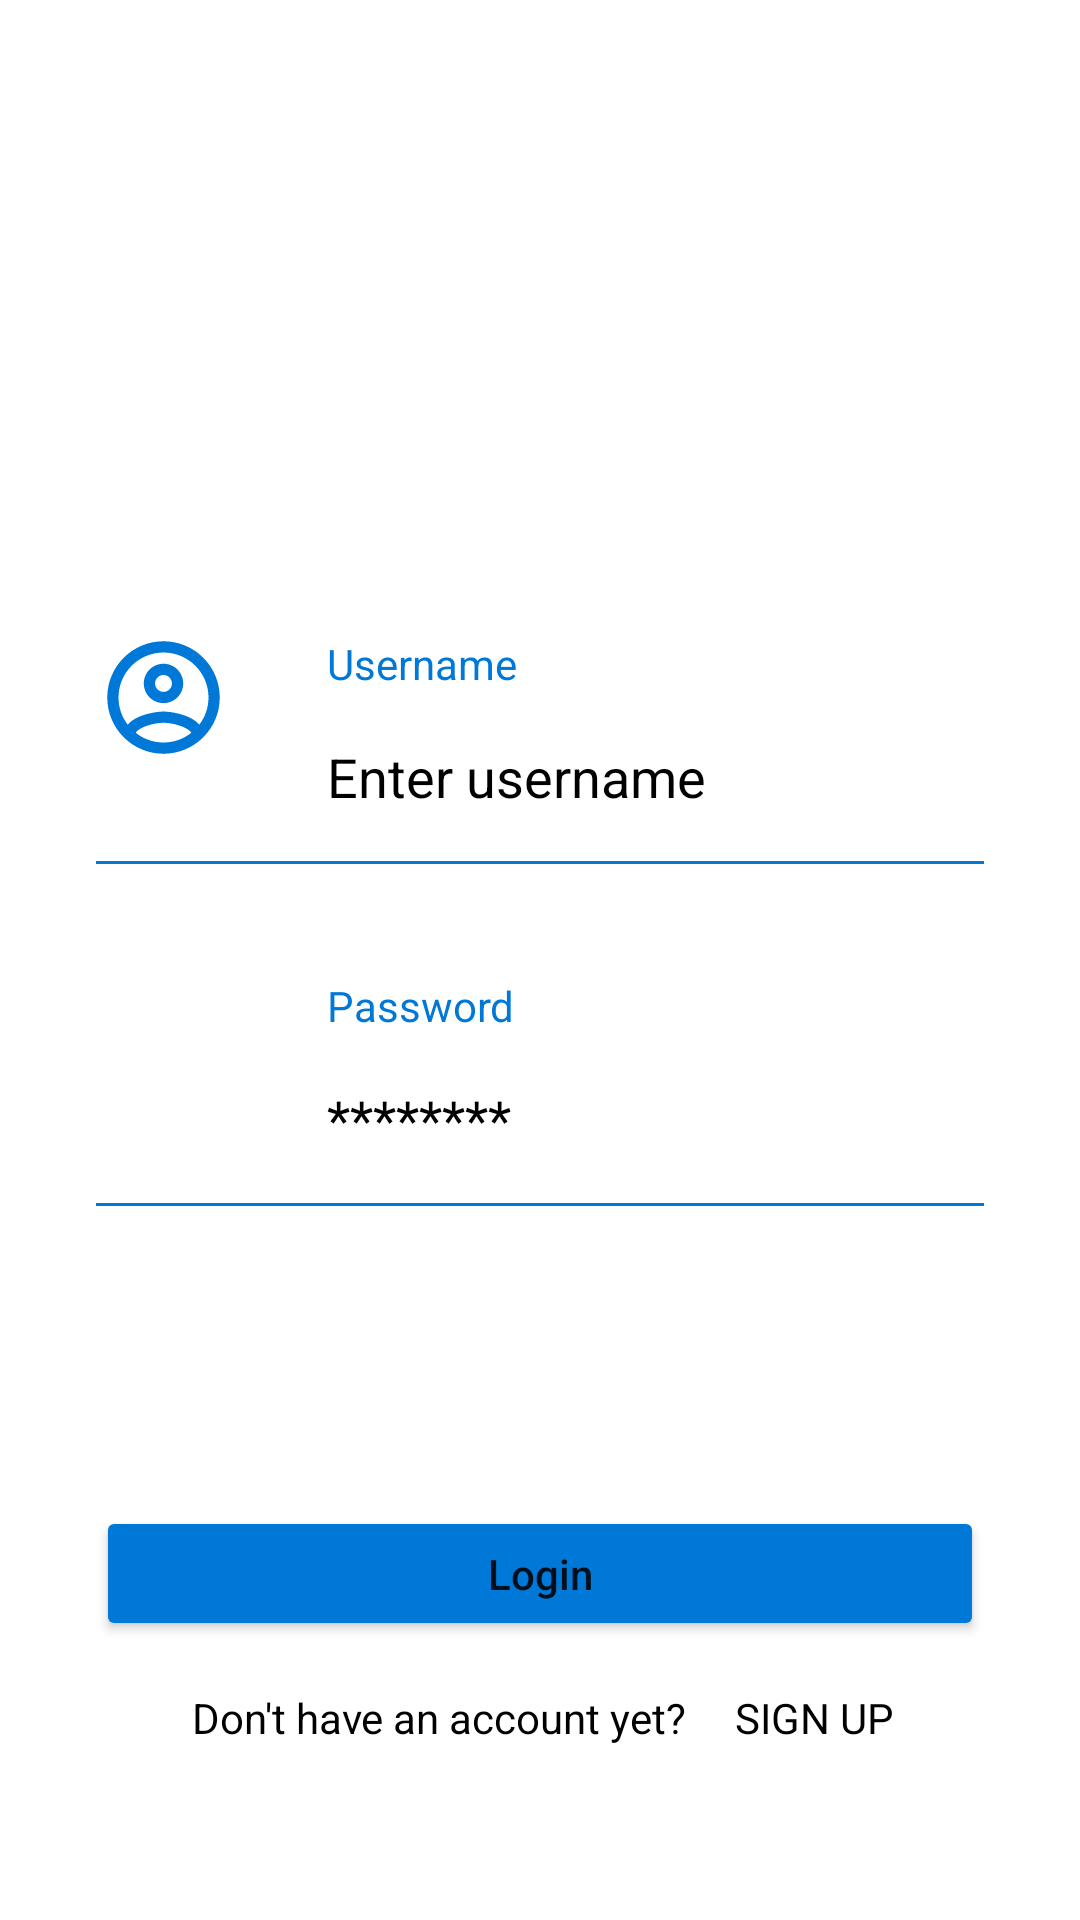

Point at icon controls on the screen. Image size 1080×1920, points as point (x, y).
account circle: point (163, 697)
